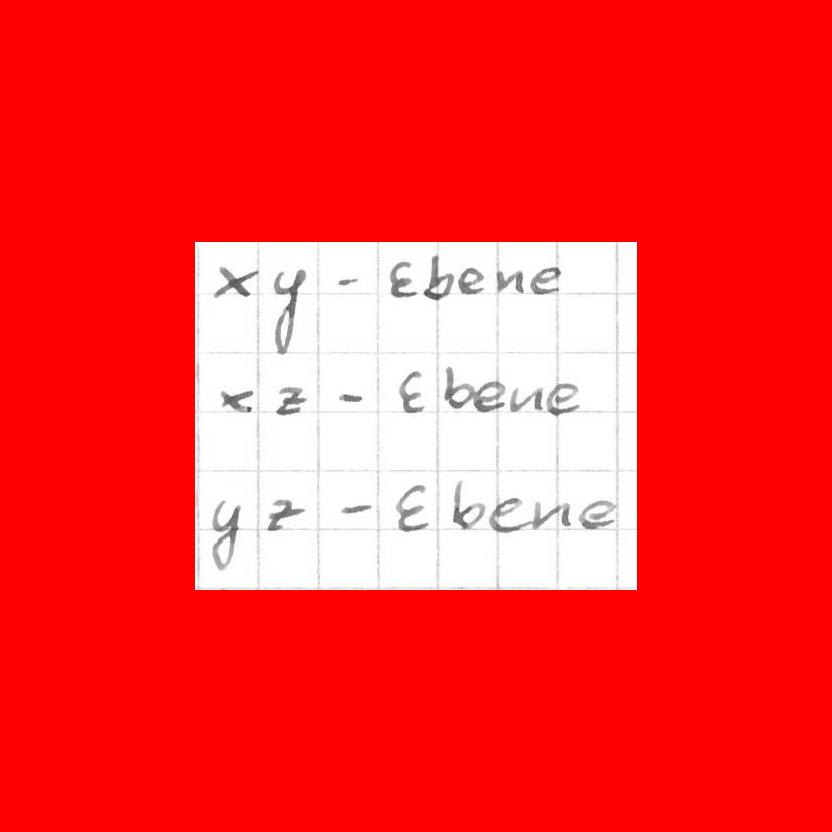Char: (266, 266, 306, 354), (208, 498, 243, 570), (391, 484, 432, 534), (449, 477, 485, 533), (213, 260, 257, 299), (262, 495, 306, 534), (443, 362, 473, 412), (423, 252, 453, 302), (488, 495, 525, 535), (544, 380, 582, 416), (531, 497, 569, 532), (578, 497, 617, 531), (398, 367, 426, 414), (387, 259, 419, 299), (272, 385, 309, 417), (473, 378, 505, 414), (217, 382, 254, 413), (529, 264, 563, 297), (508, 382, 541, 414), (457, 267, 488, 295), (495, 266, 523, 295), (338, 501, 374, 517), (335, 389, 365, 406), (334, 272, 362, 289)
